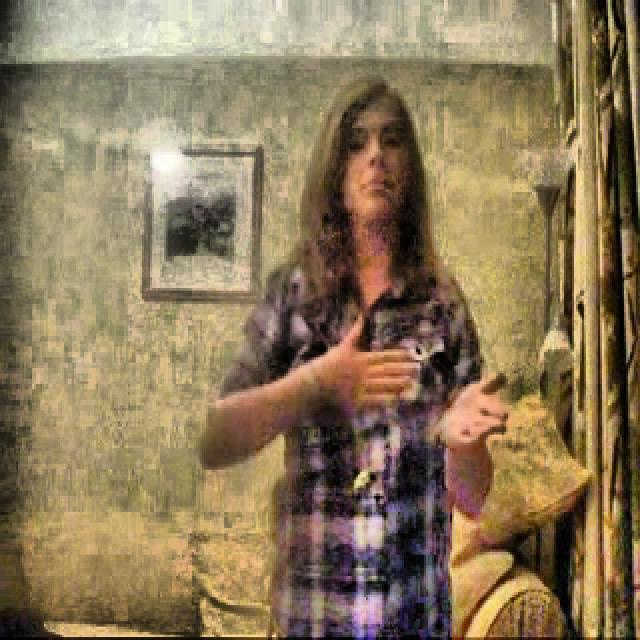F: (208, 67, 500, 638)
